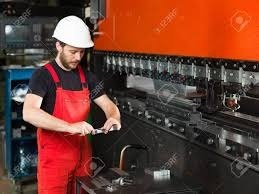helmet: (48, 14, 96, 50)
person with partial safety: (21, 14, 122, 176)
